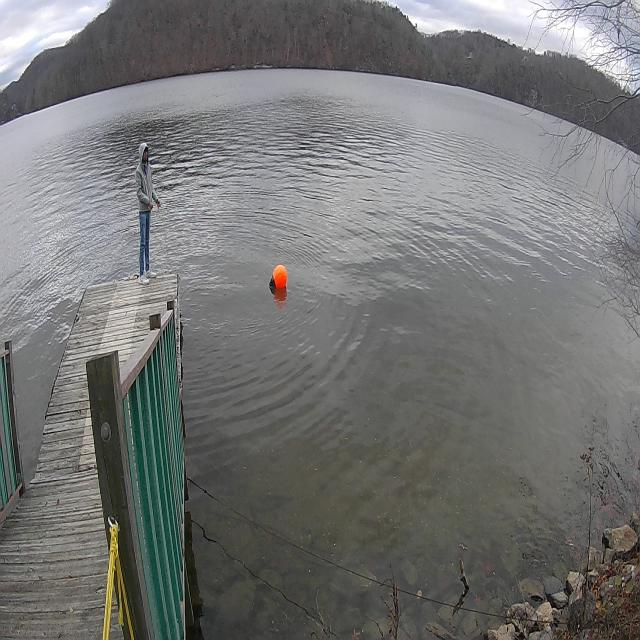Buoy: (272, 261, 288, 298)
